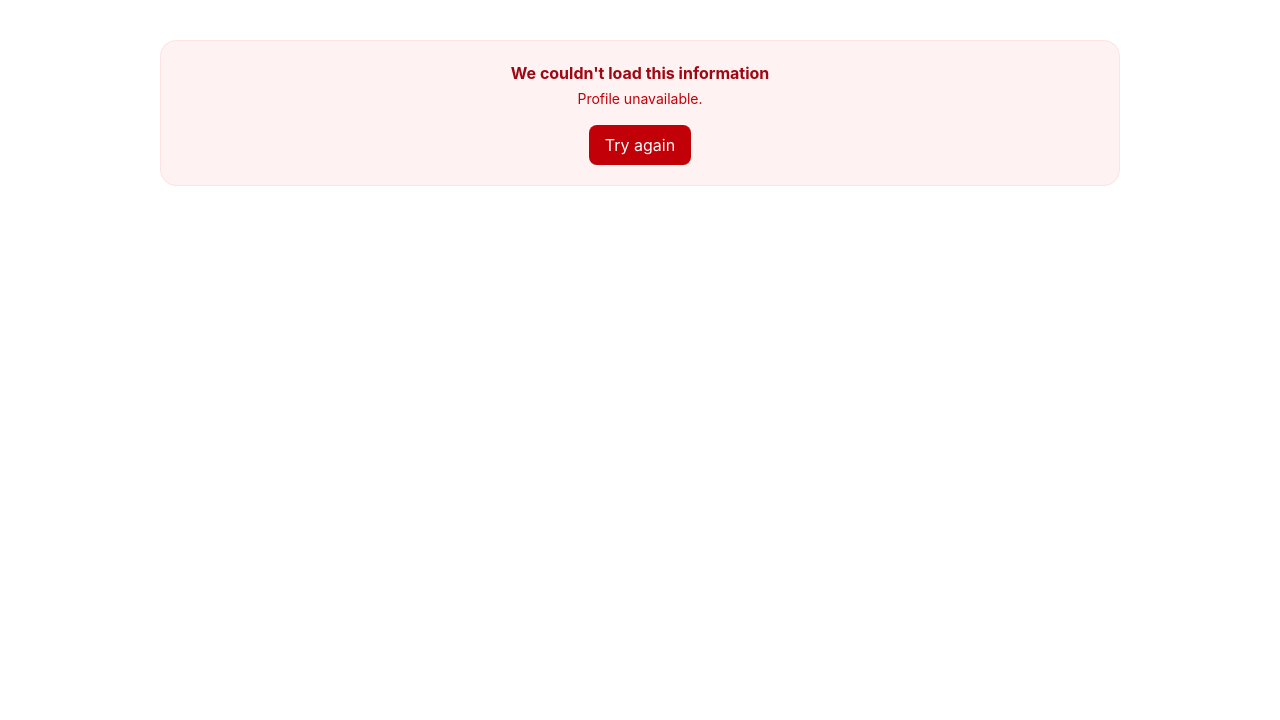
CustomerProfilePage › shows a load error and allows retrying failed profile requests
Expected: the message shows "Profile unavailable.", top-left (577, 90), bottom-right (702, 107)
Click the button "Try again" at (640, 145), box top-left (589, 125), bottom-right (691, 165)
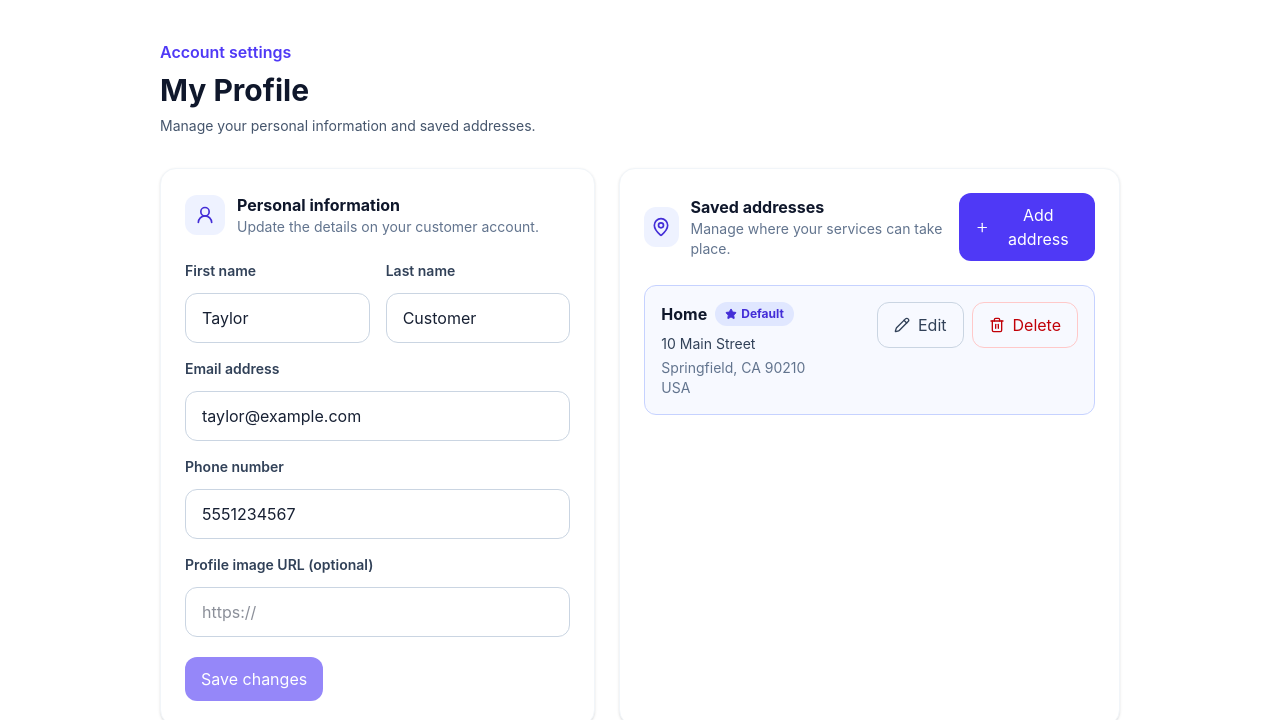
Expected: the heading "My Profile" is shown, top-left (160, 72), bottom-right (309, 108)
